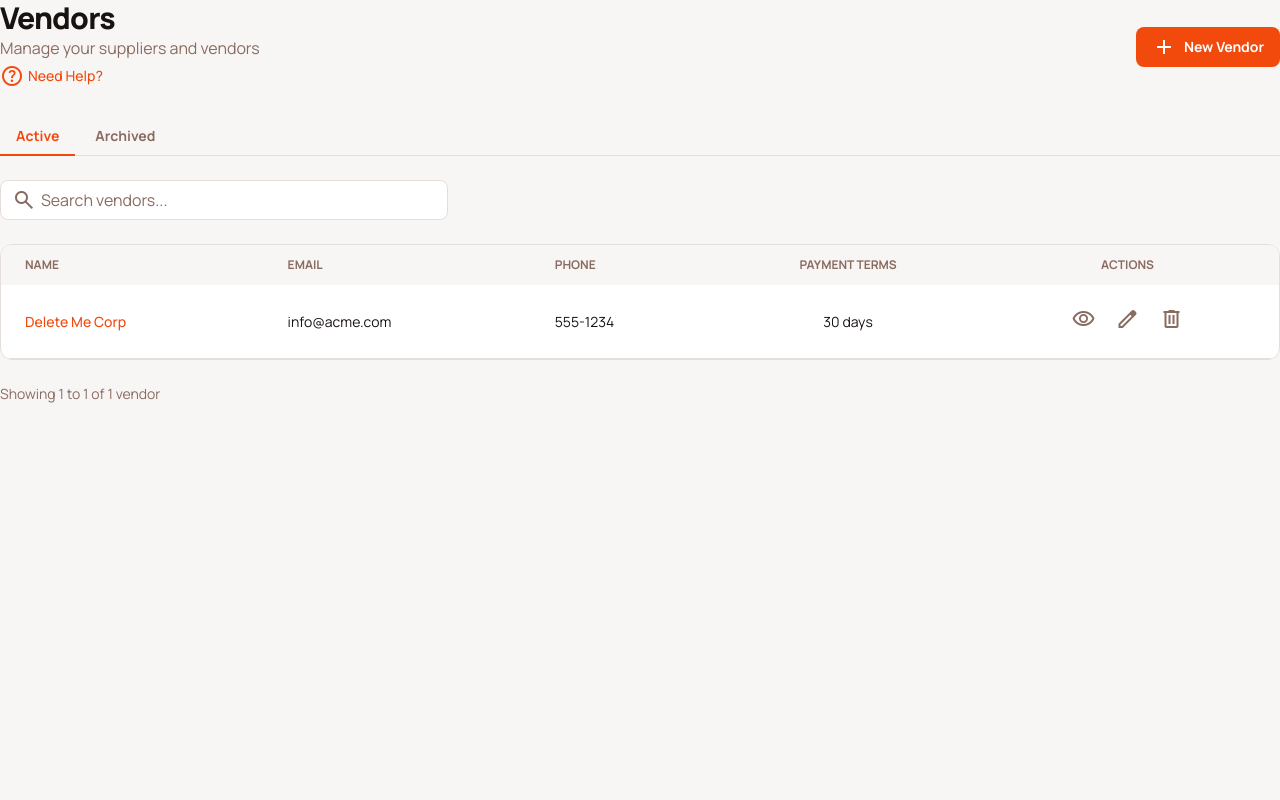
Test: VendorListPage › delete functionality › opens delete confirmation modal when delete button is clicked
This screenshot has width=1280, height=800.
Click the button with test id "vendor-delete-vendor-to-delete" at (1172, 322), box [1154,301,1190,342]
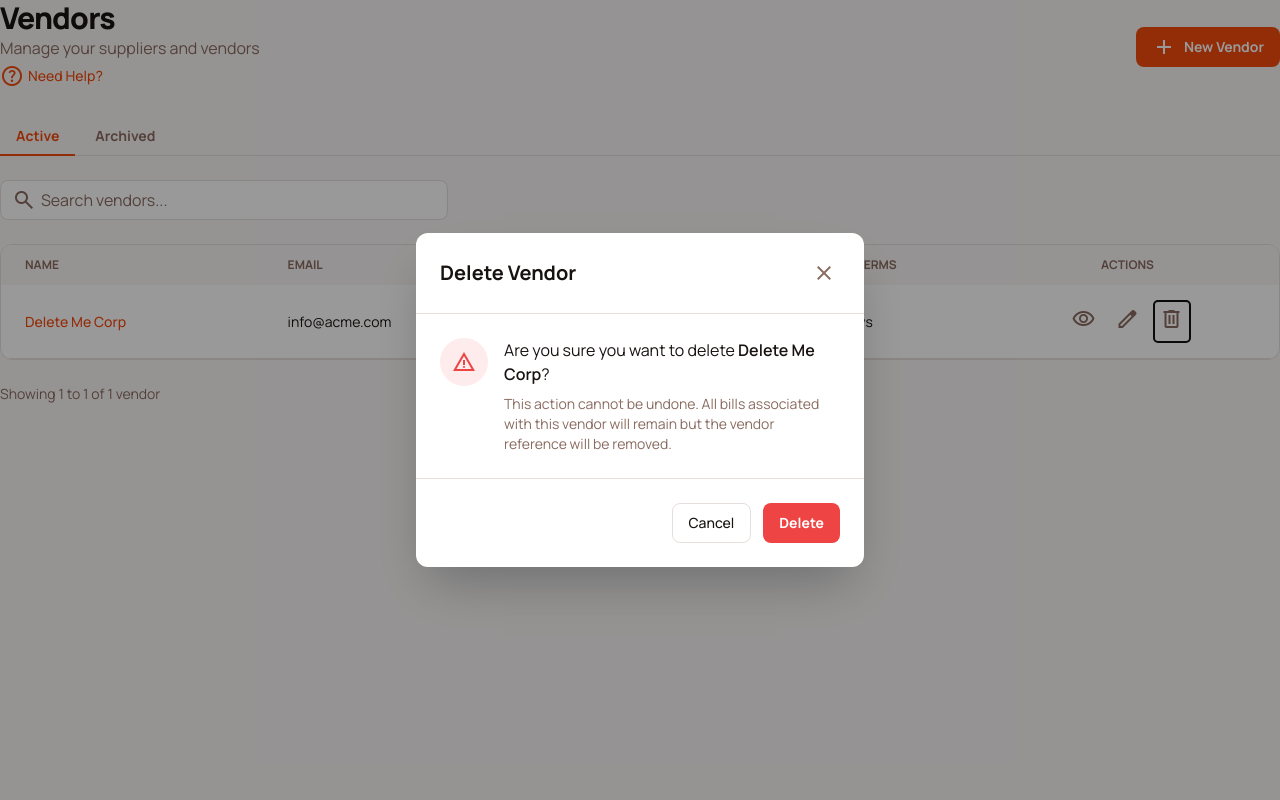
Result: the element with test id "delete-confirmation-modal" is shown
Result: the text "Delete Vendor" is shown at [440,259,576,287]
Result: the element with test id "delete-confirmation-modal" shows "Delete Me Corp" at [504,339,815,385]
